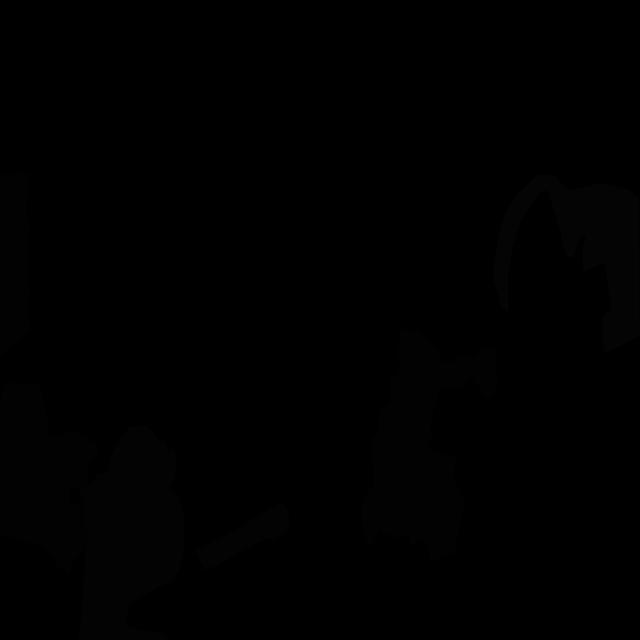cardboard: (360, 322, 498, 564), (0, 382, 100, 576), (0, 173, 30, 357)
metal: (78, 425, 184, 640), (194, 502, 290, 570)
soft_plastic: (494, 175, 640, 353)
